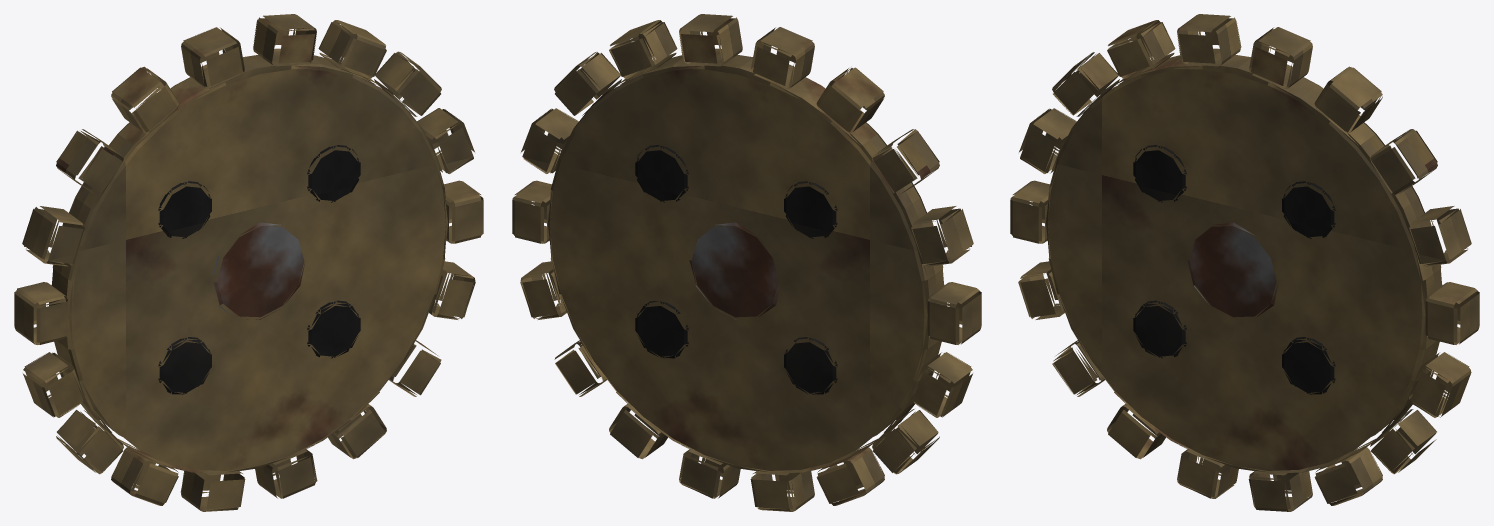
Rendered from P01_brass_gear_cog_v3.glb.
3 renders of one model, left to right at view 1: azimuth 30°, elevation 25°; view 2: azimuth 150°, elevation 25°; view 3: azimuth 330°, elevation 25°, orthographic.
Visible parts, largest first — view 1: P01_brass_gear_cog_v3; view 2: P01_brass_gear_cog_v3; view 3: P01_brass_gear_cog_v3.
Boxes of the visible parts, box(x1,y1,x2,y2) form: P01_brass_gear_cog_v3: box(14, 14, 483, 511); P01_brass_gear_cog_v3: box(512, 14, 981, 511); P01_brass_gear_cog_v3: box(1010, 14, 1479, 511).
Size of the model in its own units: 0.3 by 0.2992 by 0.0274.
3 materials, 3 textured.
